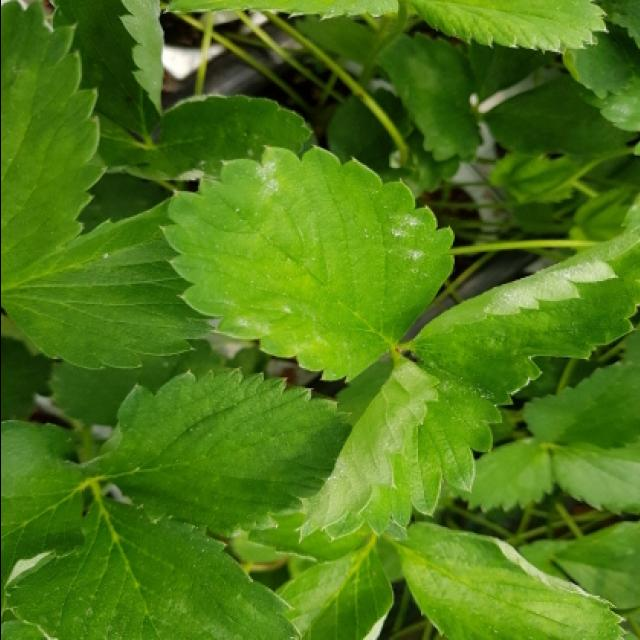Powdery Mildew Leaf: (157, 145, 453, 384), (404, 223, 640, 407), (295, 353, 503, 544), (386, 520, 626, 640)
